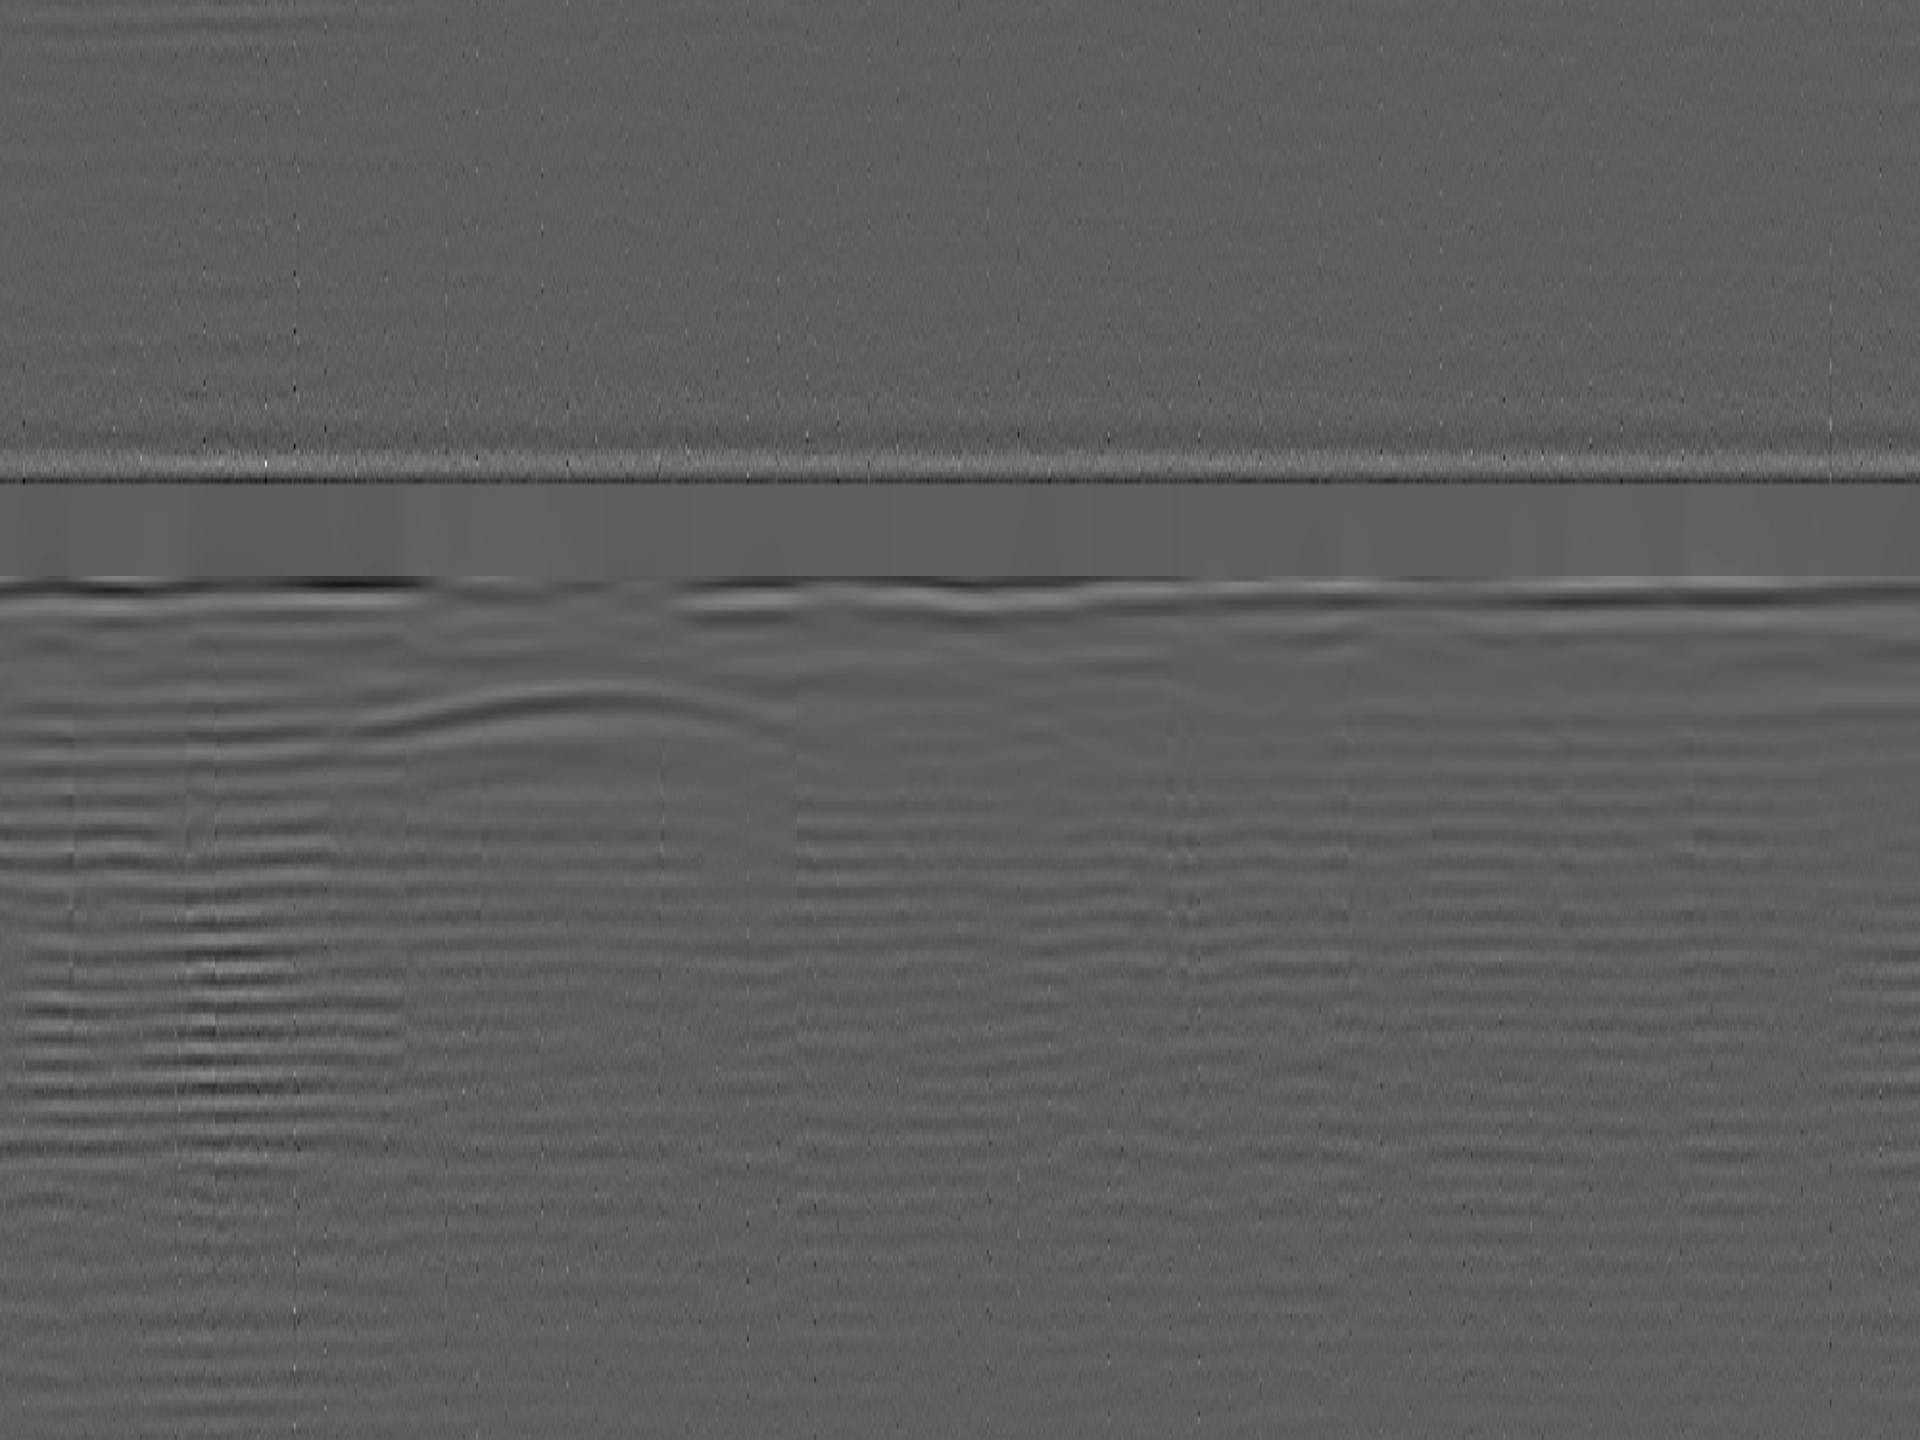Tunnel: (322, 676, 845, 764)
